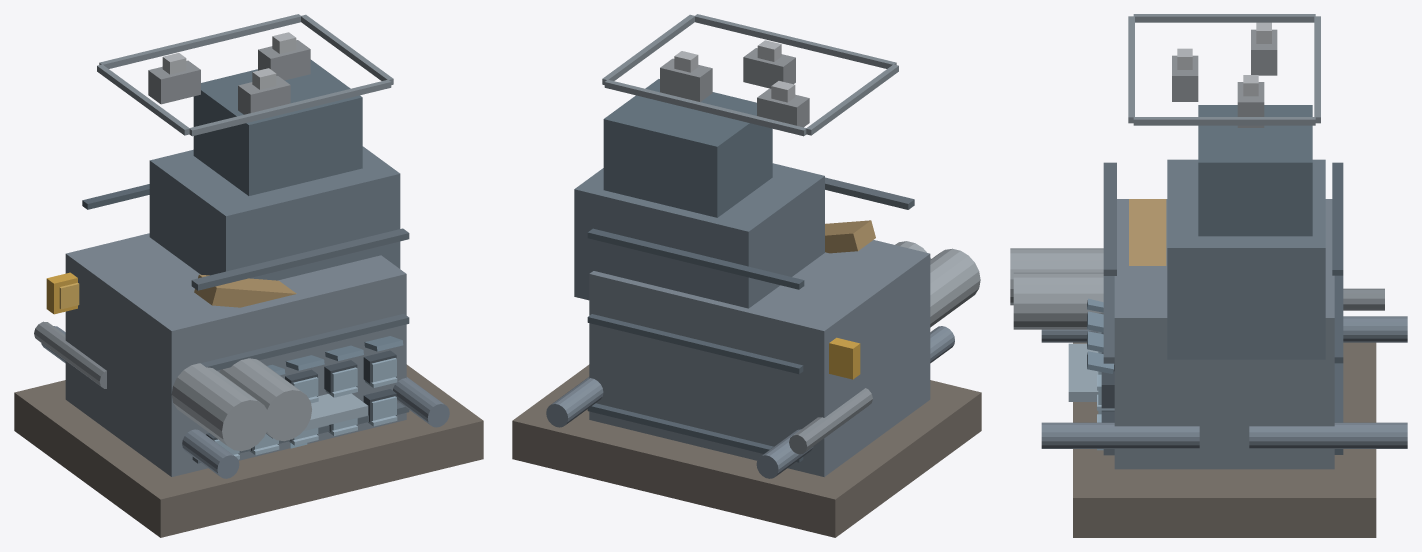
Rendered from mine_hq.glb.
3 renders of one model, left to right at view 1: azimuth 30°, elevation 25°; view 2: azimuth 150°, elevation 25°; view 3: azimuth 270°, elevation 25°, orthographic. The views are drawn at different scales.
Parts seen in each view (by area): view 1: world; view 2: world; view 3: world.
Part boxes in pixels (left/top/right/bottom): world: left=14, top=14, right=483, bottom=537; world: left=512, top=14, right=981, bottom=537; world: left=1010, top=14, right=1407, bottom=537.
Bounding box in the file's own units: 1.76 × 2.07 × 1.81.
